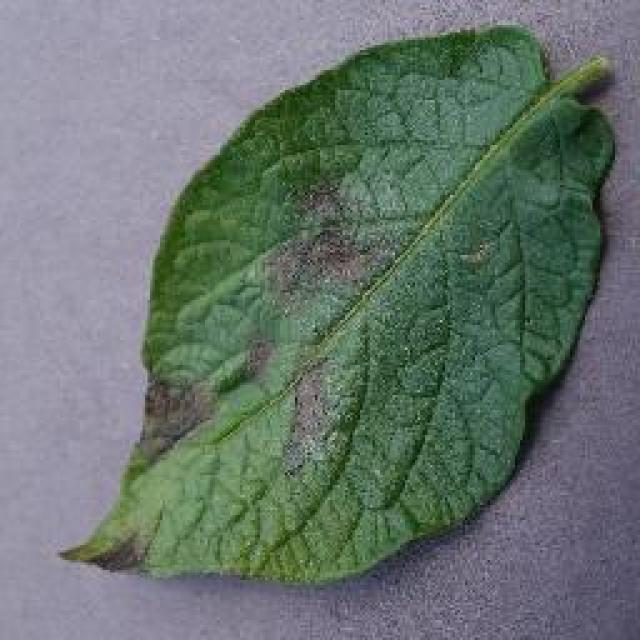Potato___Late_blight: (52, 21, 623, 587)
